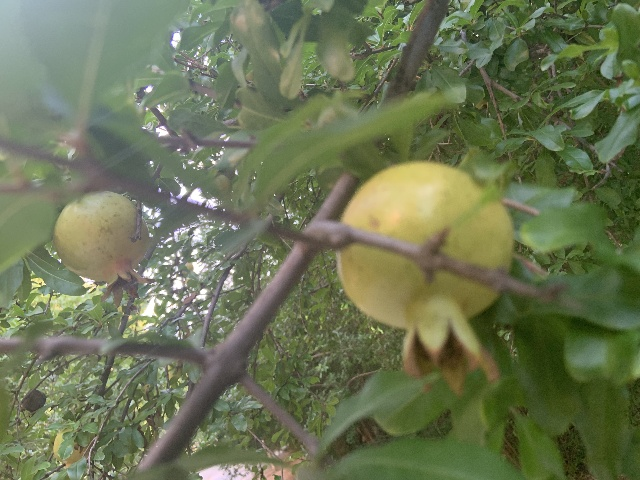mid-growth: (337, 160, 517, 397), (52, 191, 155, 310), (52, 428, 90, 469)
